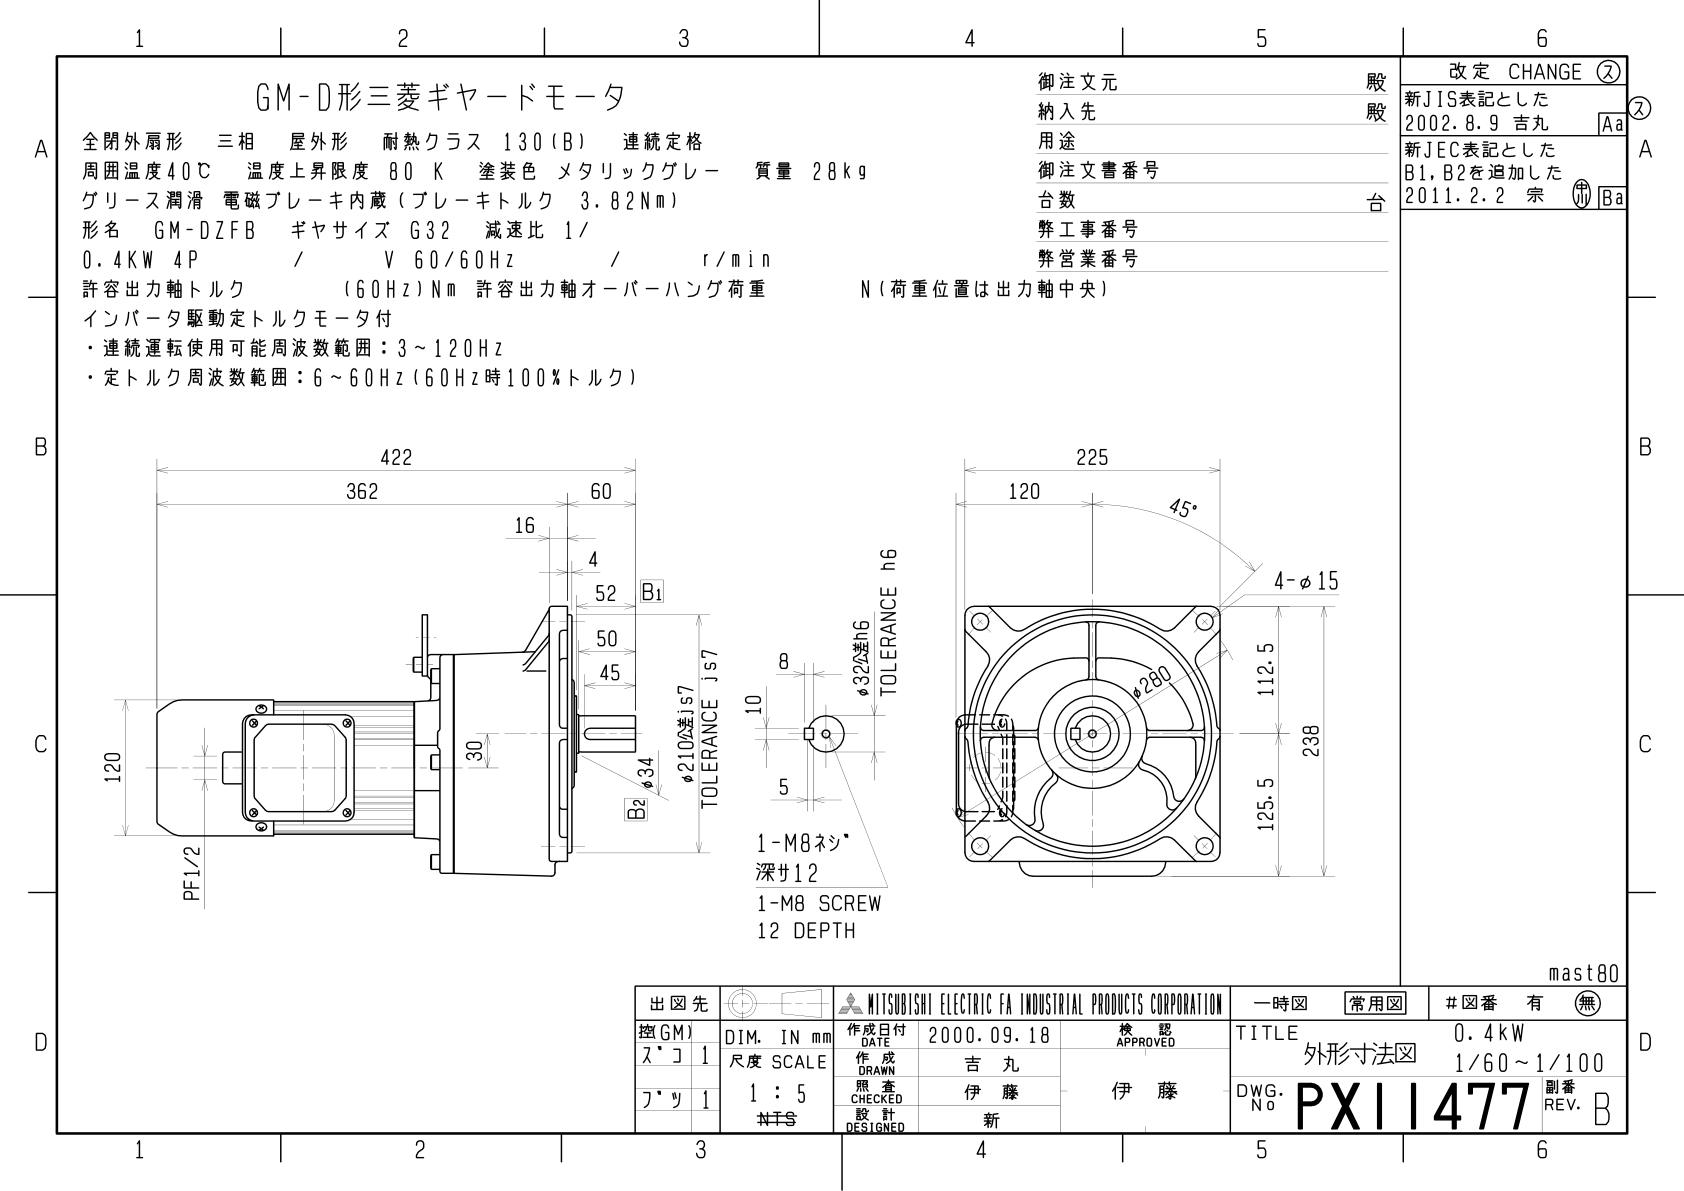GM_D_インバータ屋外_三相_フランジ: (73, 400, 1361, 955)
